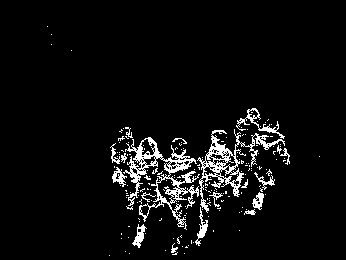person: (197, 127, 240, 242), (251, 118, 290, 215), (163, 135, 194, 246), (135, 134, 163, 247), (234, 108, 260, 173), (113, 126, 133, 190)
